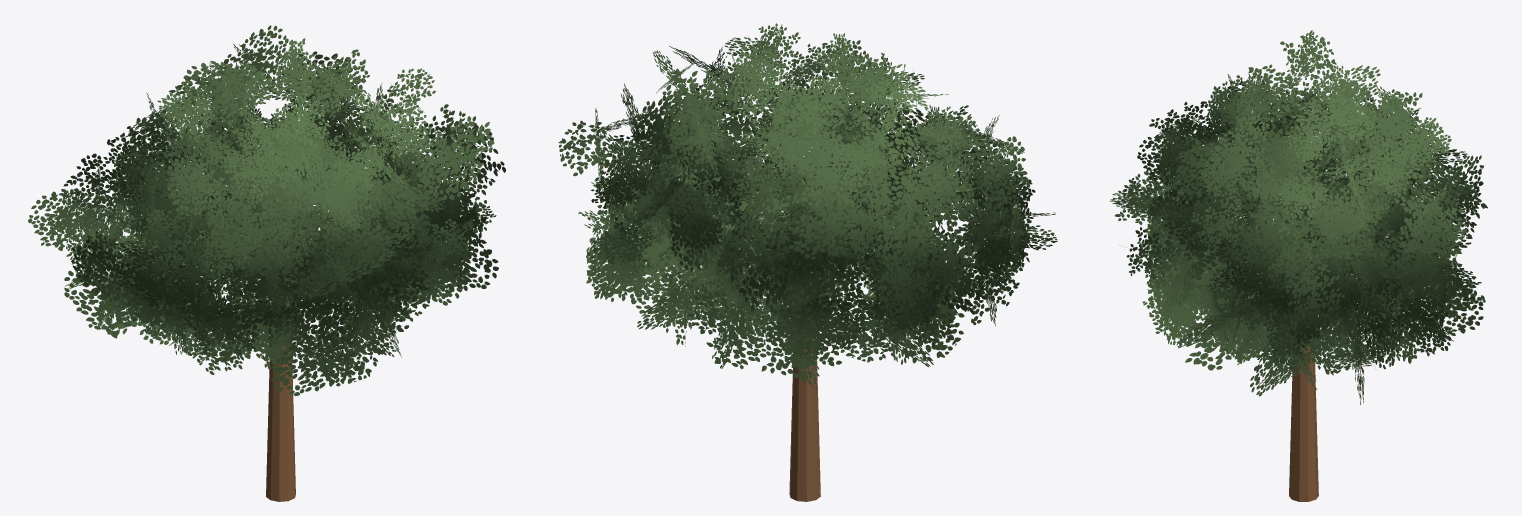
Rendered from tree_foliage_480card_v8.glb.
3 views of the same model, side by side, from view 1: azimuth 30°, elevation 25°; view 2: azimuth 150°, elevation 25°; view 3: azimuth 270°, elevation 25° (orthographic). The views are drawn at different scales.
Parts seen in each view (by area): view 1: Tree_Foliage_480Cards_BroadSparse, Tree_Trunk_Straight; view 2: Tree_Foliage_480Cards_BroadSparse, Tree_Trunk_Straight; view 3: Tree_Foliage_480Cards_BroadSparse, Tree_Trunk_Straight.
Part boxes in pixels (x1,y1,x2,y2): Tree_Foliage_480Cards_BroadSparse: (28, 25, 505, 396); Tree_Trunk_Straight: (266, 304, 295, 501); Tree_Foliage_480Cards_BroadSparse: (558, 23, 1057, 387); Tree_Trunk_Straight: (789, 272, 820, 501); Tree_Foliage_480Cards_BroadSparse: (1110, 30, 1487, 404); Tree_Trunk_Straight: (1289, 254, 1318, 501).
Size of the model in its own units: 6.56 by 6.1 by 5.15.
2 materials, 1 textured.
